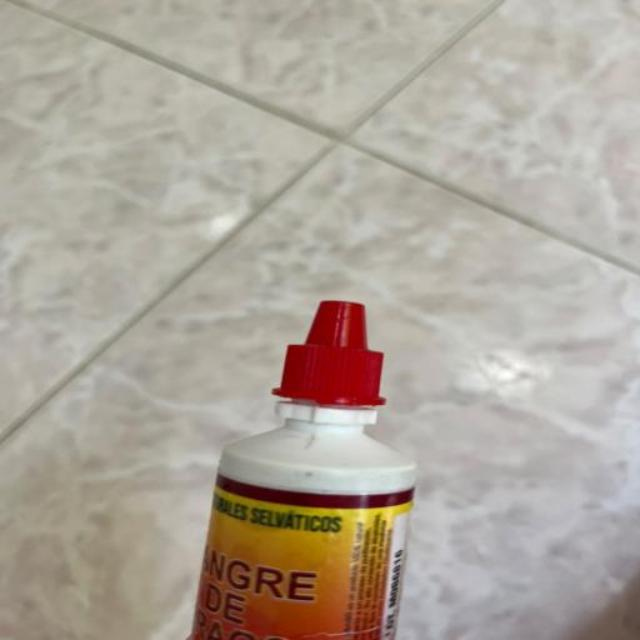HDPE: (178, 278, 506, 640)
